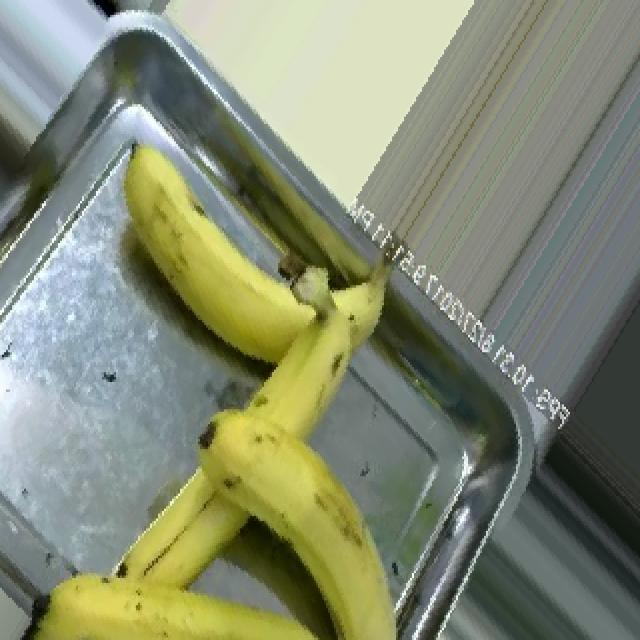banana: (110, 143, 365, 408)
